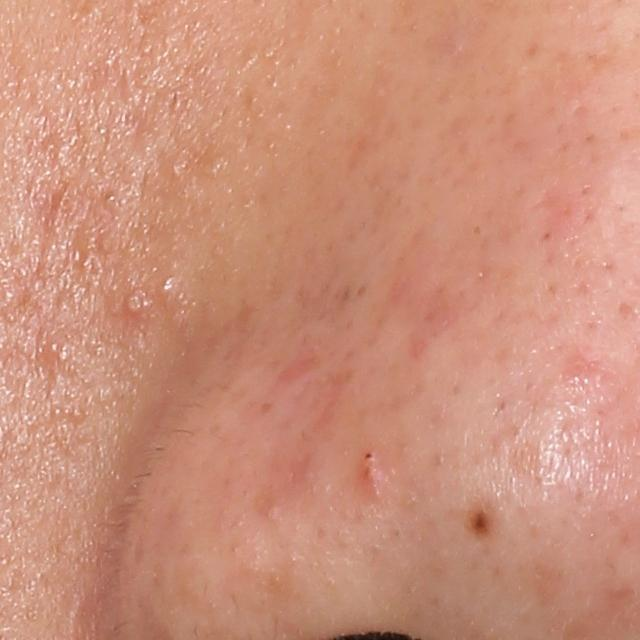nevus: (468, 506, 494, 536)
